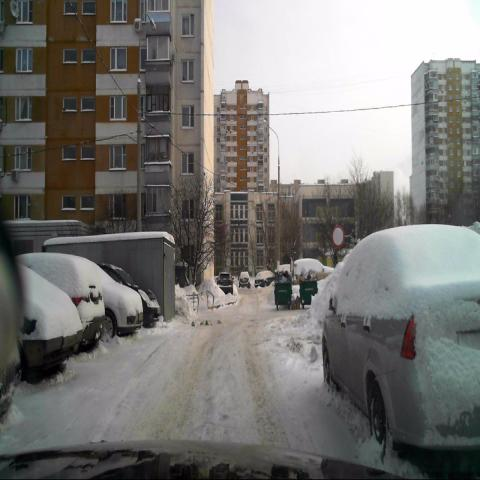3_2: (331, 225, 345, 249)
